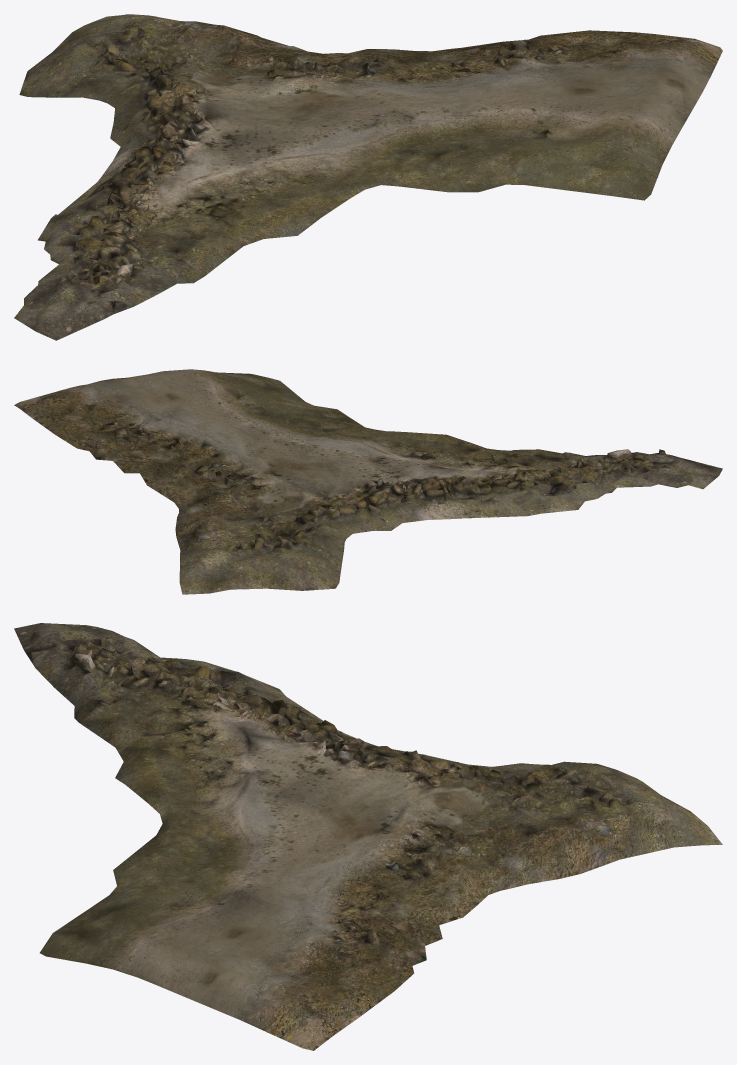
Rendered from coast_rocks_01.glb.
3 views of the same model, one above another, from view 1: azimuth 30°, elevation 25°; view 2: azimuth 150°, elevation 25°; view 3: azimuth 270°, elevation 25° (orthographic). The views are drawn at different scales.
Visible parts, largest first — view 1: coast_rocks_01; view 2: coast_rocks_01; view 3: coast_rocks_01.
Part boxes in pixels (left/top/right/bottom): coast_rocks_01: left=14, top=14, right=722, bottom=340; coast_rocks_01: left=14, top=369, right=722, bottom=594; coast_rocks_01: left=14, top=623, right=722, bottom=1050.
Size of the model in its own units: 59.34 by 3.28 by 42.49.
Materials: 1 (1 with a texture image).
